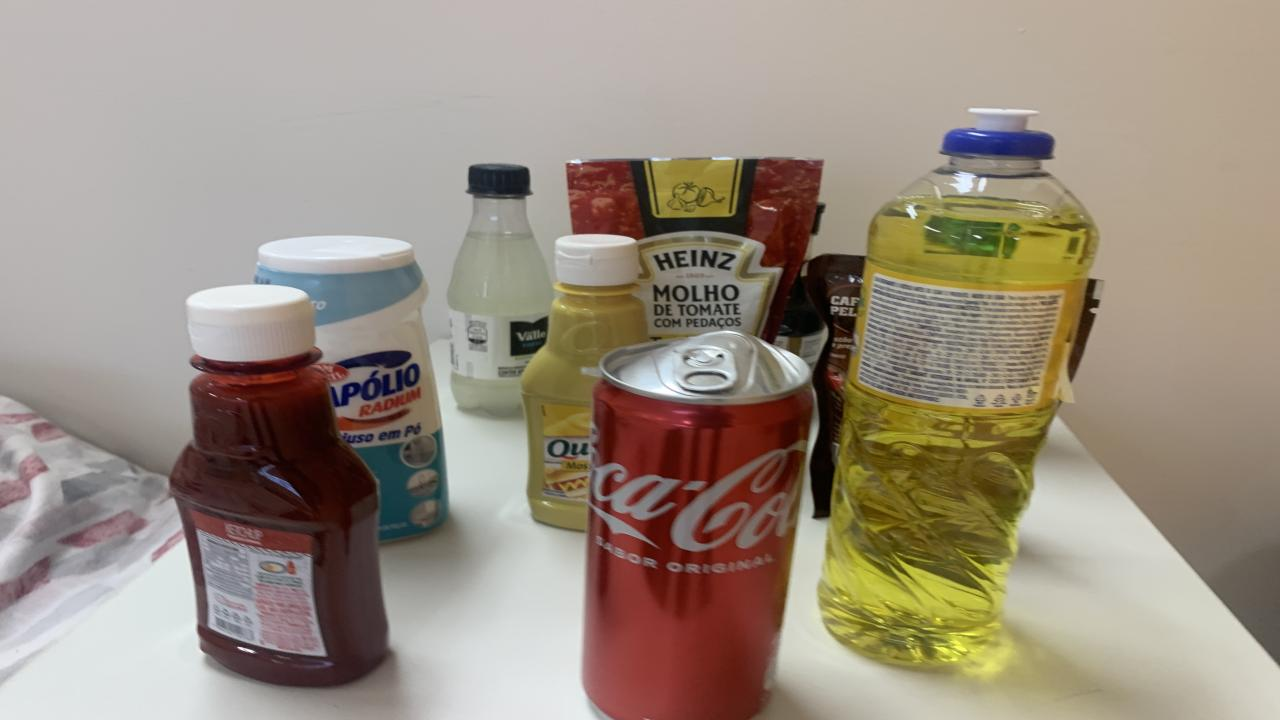Cleaner-Cleanup_Items: (255, 236, 448, 540)
Coffee-Pantry_Items: (802, 253, 865, 518), (1072, 285, 1100, 373)
Coke-Drinks: (582, 332, 812, 718)
Detergent-Cleanup_Items: (818, 109, 1098, 664)
Ketchup-Pantry_Items: (170, 285, 388, 686)
Mustard-Pantry_Items: (520, 234, 648, 531)
Soda-Drinks: (448, 163, 552, 416)
Tomato_Sauce-Pantry_Items: (568, 158, 822, 341)
